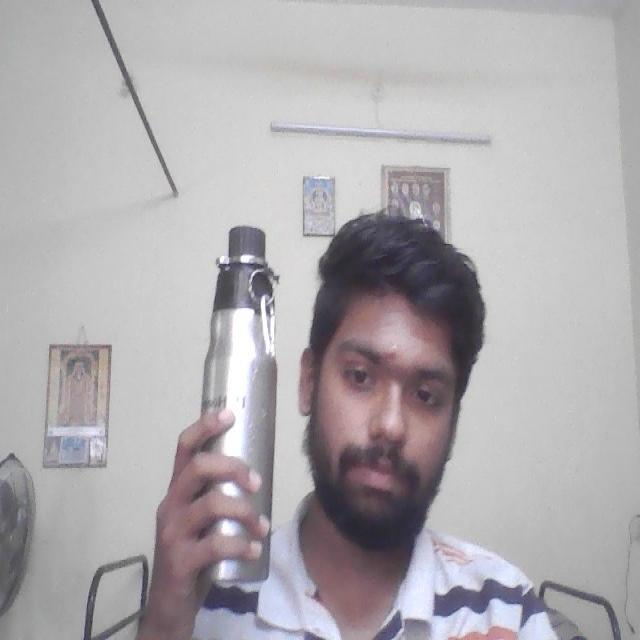Drinking: (195, 223, 284, 596)
